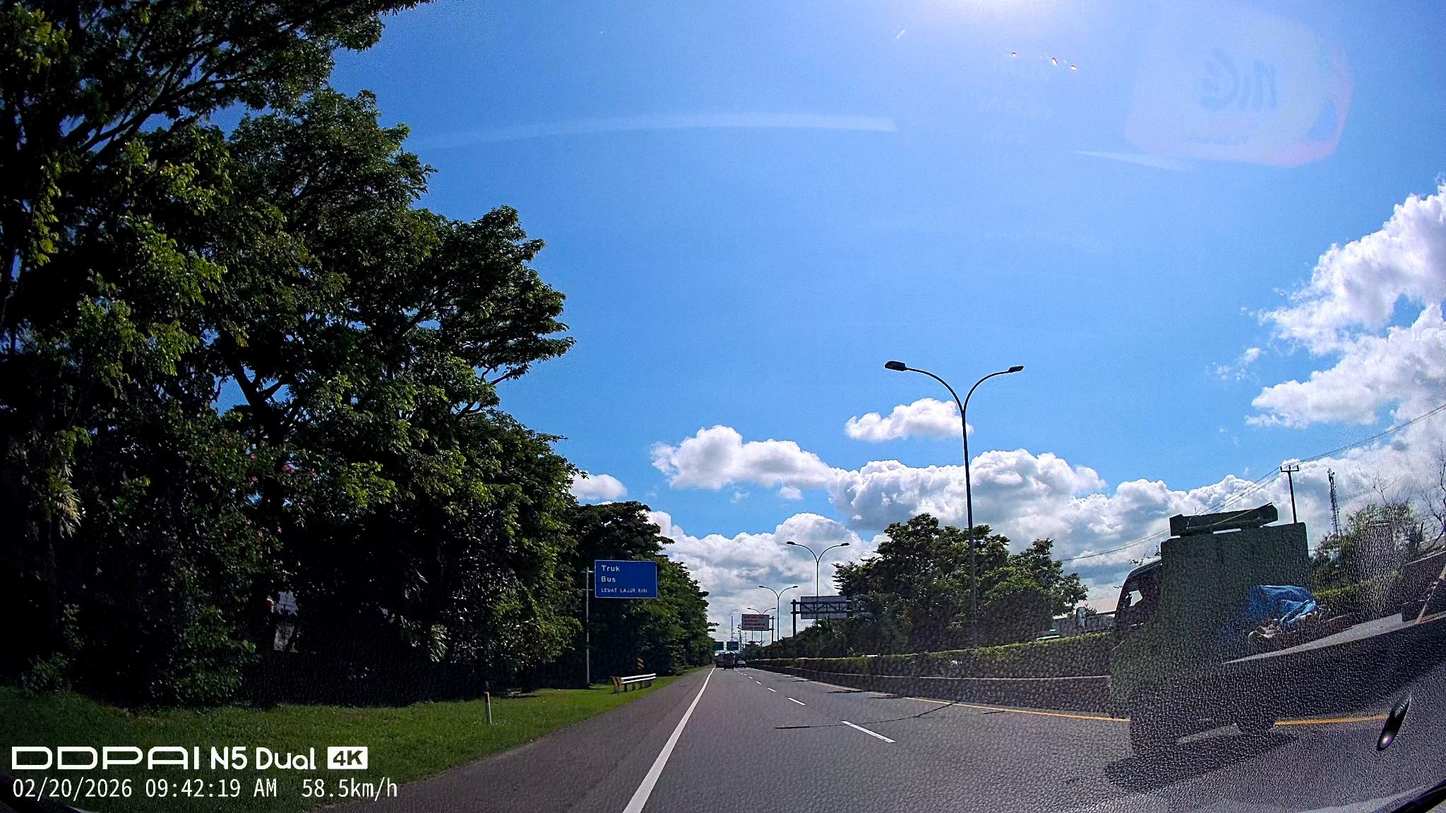rambu_teks: (594, 559, 658, 599)
